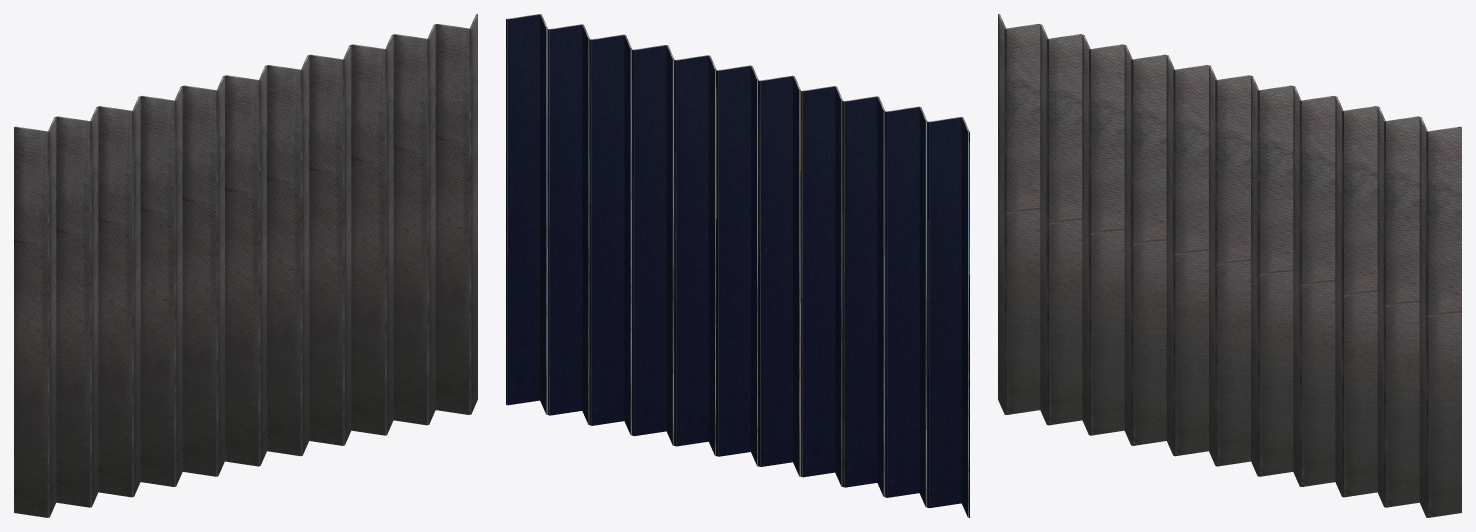
Rendered from MetalSheet.fbx.
3 views of the same model, side by side, from view 1: azimuth 30°, elevation 25°; view 2: azimuth 150°, elevation 25°; view 3: azimuth 330°, elevation 25° (orthographic).
Visible parts, largest first — view 1: MetalSheetBake; view 2: MetalSheetBake; view 3: MetalSheetBake.
Part boxes in pixels (x1,y1,x2,y2): MetalSheetBake: (14,14,477,517); MetalSheetBake: (506,14,969,517); MetalSheetBake: (998,14,1461,517).
Size of the model in its own units: 1356 by 1078 by 69.13.
1 material, 1 textured.
